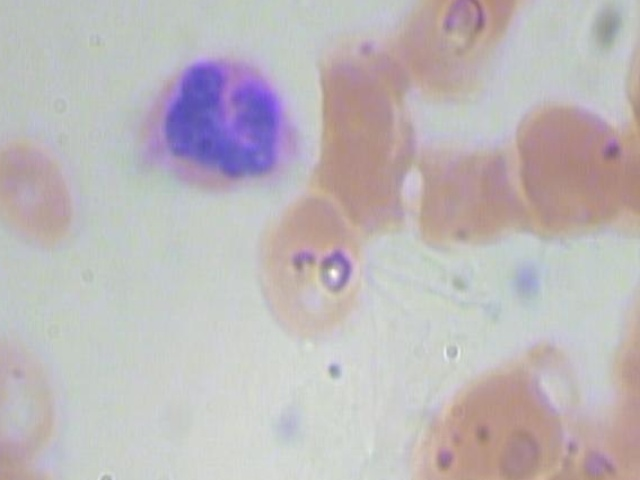Platelets: (264, 399, 310, 448), (503, 256, 549, 305)
RBC: (245, 183, 363, 352), (509, 82, 627, 251), (440, 336, 567, 480), (405, 124, 514, 259), (0, 135, 78, 261), (412, 0, 521, 90), (0, 330, 70, 463), (609, 14, 640, 147)
WBC: (122, 42, 315, 197)
